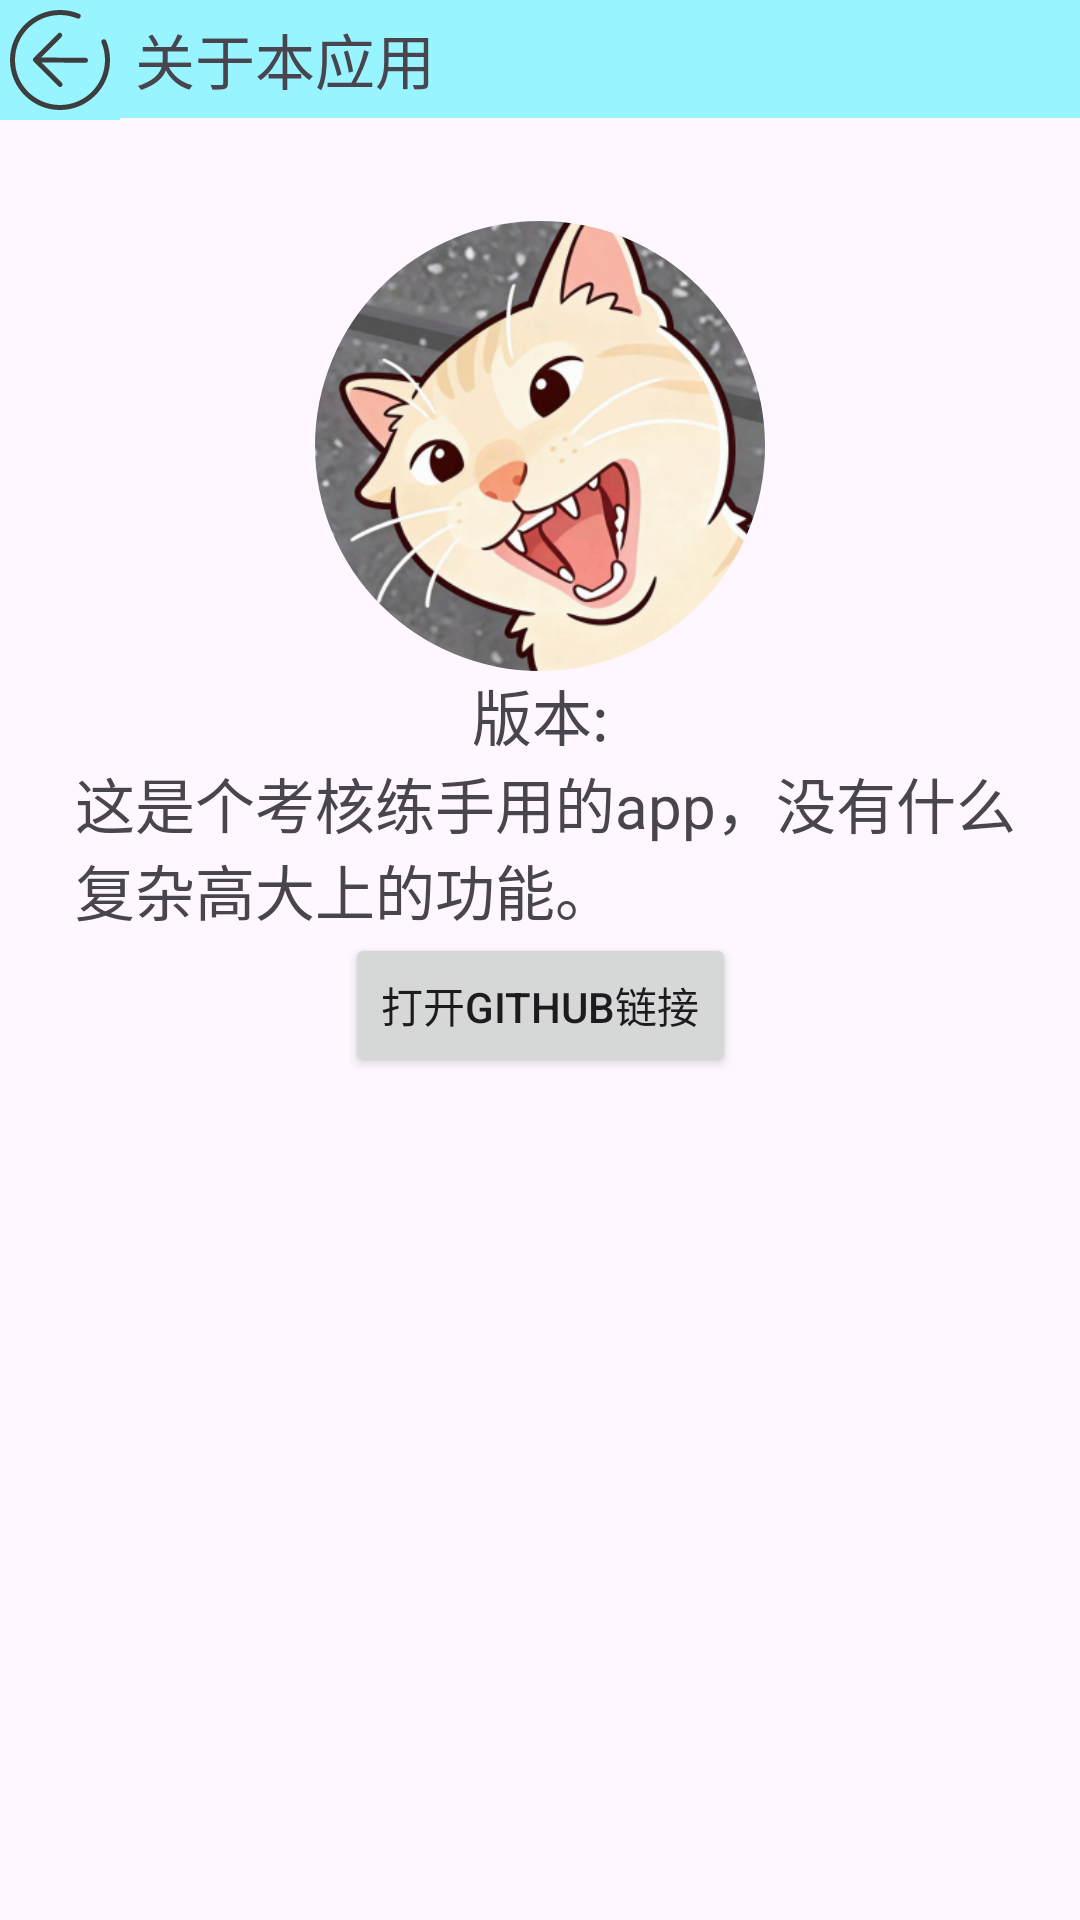

Icons on this 1080×1920 Android screen, each with the point to tap as (x=x, y=y):
back: (x=60, y=60)
